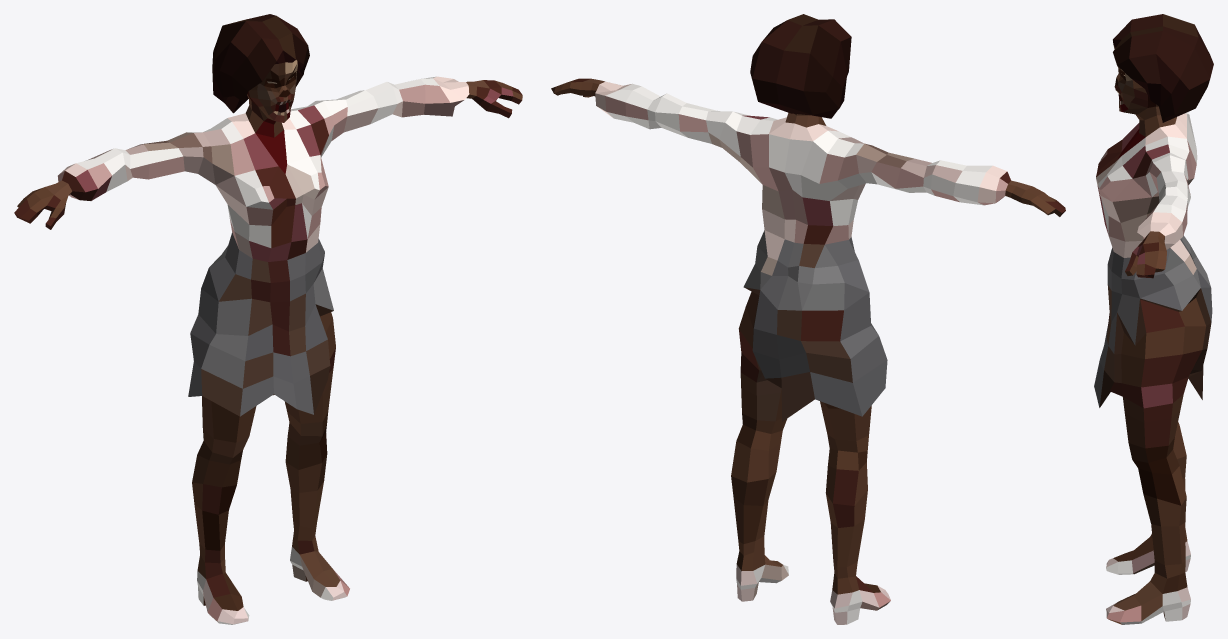
File: ZombieE.fbx
The picture shows the model from 3 angles, left to right: view 1: azimuth 30°, elevation 25°; view 2: azimuth 150°, elevation 25°; view 3: azimuth 270°, elevation 25°; orthographic projection.
Visible parts, largest first — view 1: lpFemale_zombie_E; view 2: lpFemale_zombie_E; view 3: lpFemale_zombie_E.
Part boxes in pixels (x1=…): lpFemale_zombie_E: x1=14, y1=14, x2=522, y2=624; lpFemale_zombie_E: x1=551, y1=14, x2=1065, y2=624; lpFemale_zombie_E: x1=1094, y1=14, x2=1213, y2=624.
Bounding box in the file's own units: 158 × 172 × 32.66.
